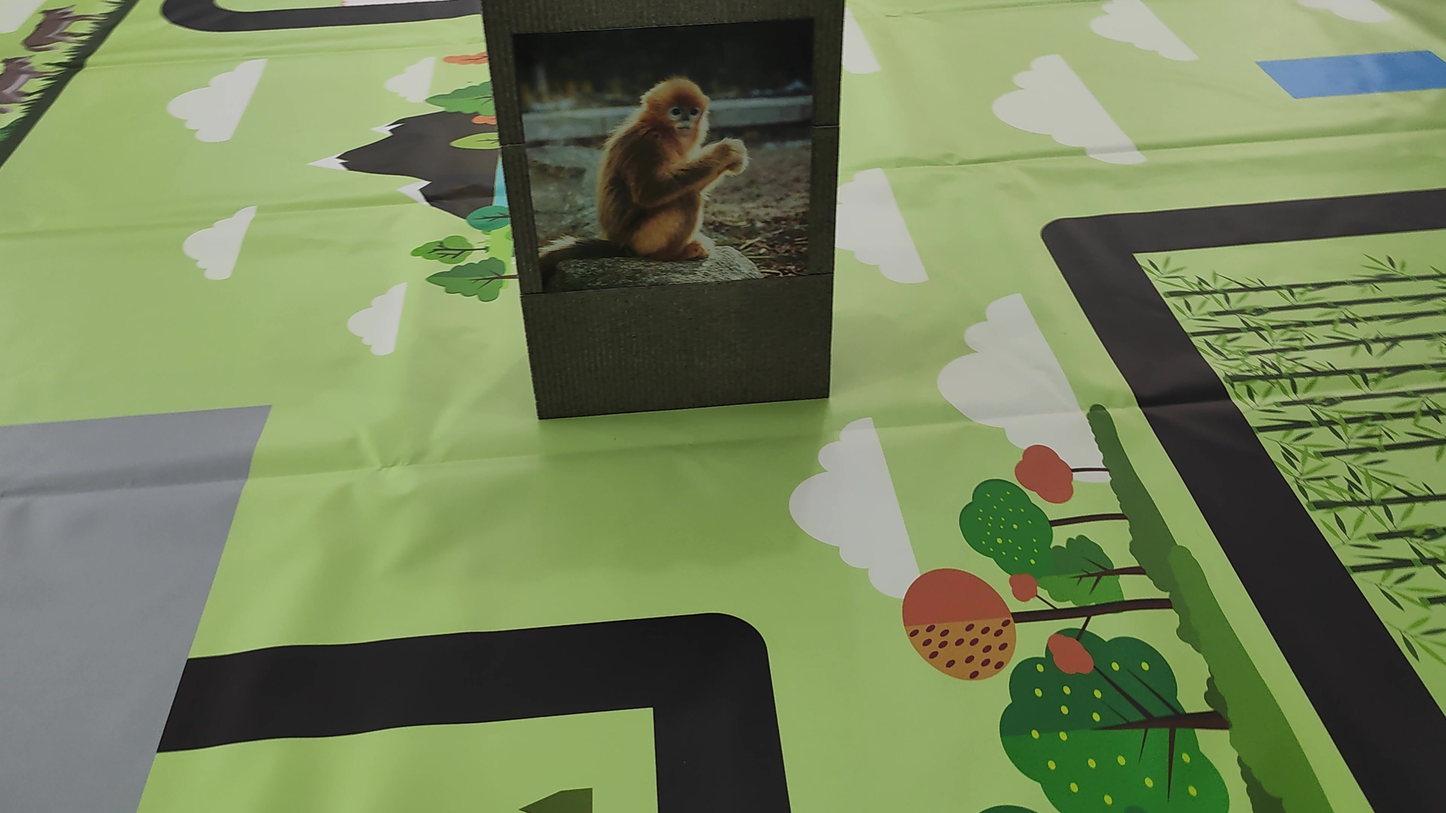monkey: (549, 41, 794, 282)
